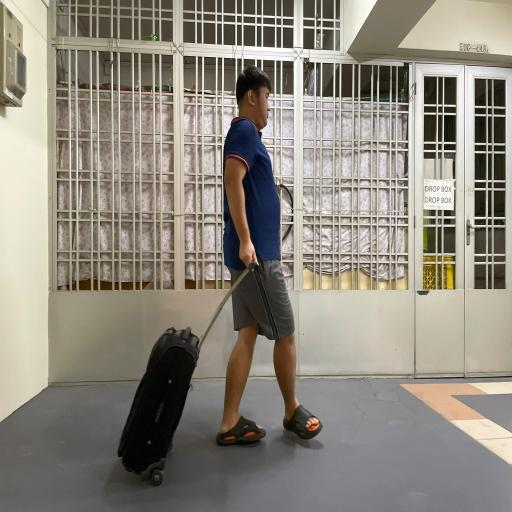person_right: (105, 68, 323, 490)
